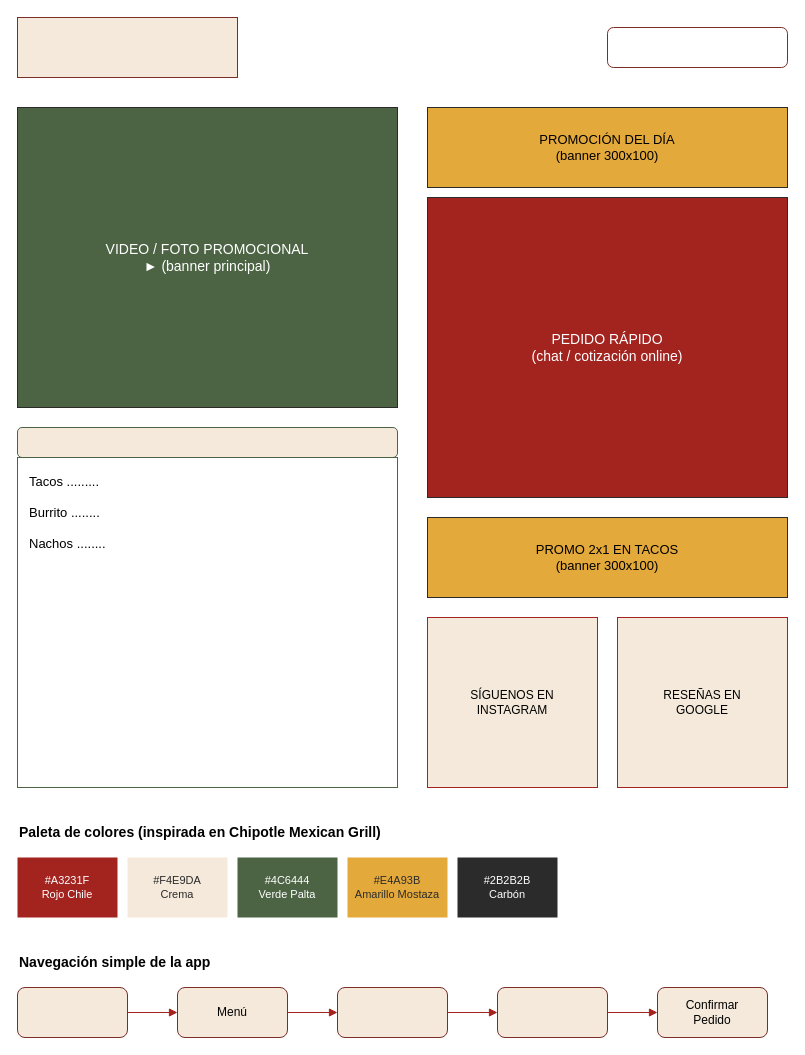
This 805x1055 diagram has some shape labels left out. Here are the shapes that lost their labels. From the top down, the box of each, then its label:
(16, 16, 238, 78): LOGO EL MARIACHI
(606, 26, 788, 68): FB | IG | WhatsApp
(16, 426, 398, 458): MENÚ | NOSOTROS
(16, 986, 128, 1038): Inicio
(336, 986, 448, 1038): Detalle Producto
(496, 986, 608, 1038): Carrito
